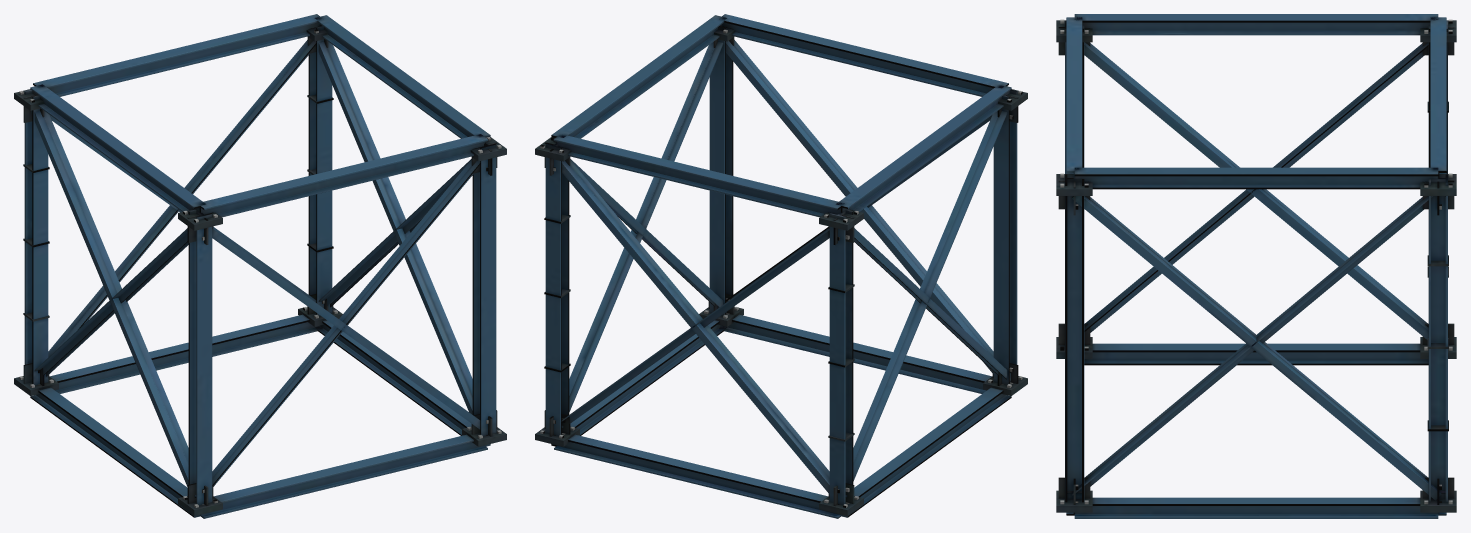
The model's file is rear_tower_v4.glb.
3 renders of one model, left to right at view 1: azimuth 30°, elevation 25°; view 2: azimuth 150°, elevation 25°; view 3: azimuth 270°, elevation 25°, orthographic. The views are drawn at different scales.
Parts seen in each view (by area): view 1: body; view 2: body; view 3: body.
Part boxes in pixels (left/top/right/bottom): body: left=14, top=14, right=506, bottom=518; body: left=535, top=14, right=1027, bottom=518; body: left=1056, top=14, right=1456, bottom=518.
Size of the model in its own units: 6.6 by 6.27 by 6.6.
Materials: 1 (1 with a texture image).
